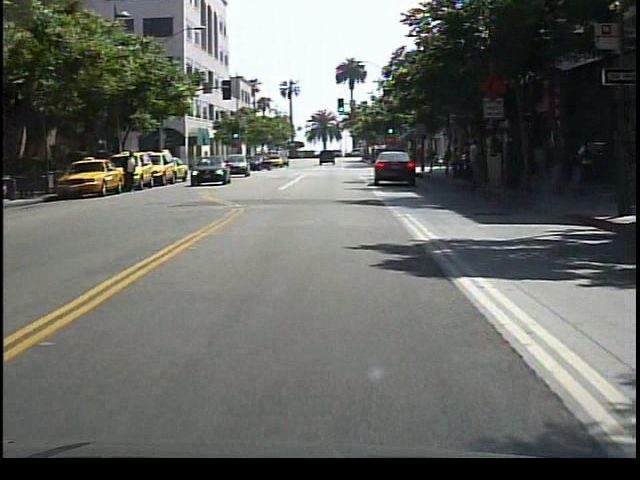person: (465, 133, 489, 196), (125, 147, 143, 196)
